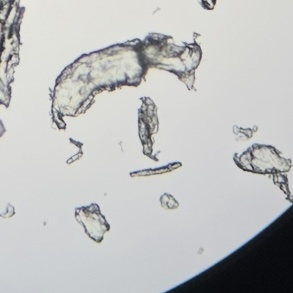microplastic: (50, 32, 201, 131), (1, 1, 25, 108), (233, 144, 293, 173), (138, 97, 161, 162), (75, 204, 110, 243), (130, 162, 181, 177), (270, 172, 293, 205), (65, 138, 83, 165), (232, 124, 259, 141), (160, 193, 179, 209), (1, 202, 15, 220), (200, 1, 216, 10), (1, 119, 6, 139)
